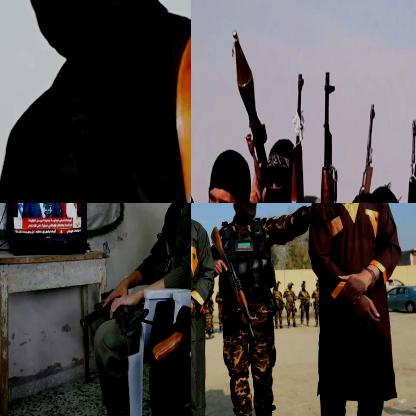rifle: (224, 25, 276, 184), (128, 303, 190, 415), (209, 223, 258, 348), (304, 69, 339, 202), (78, 289, 152, 339), (353, 96, 385, 202), (403, 111, 415, 202)
